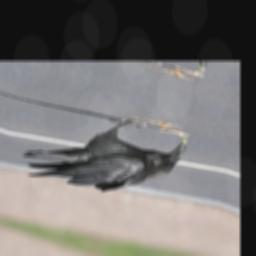Crow: (17, 95, 190, 213)
